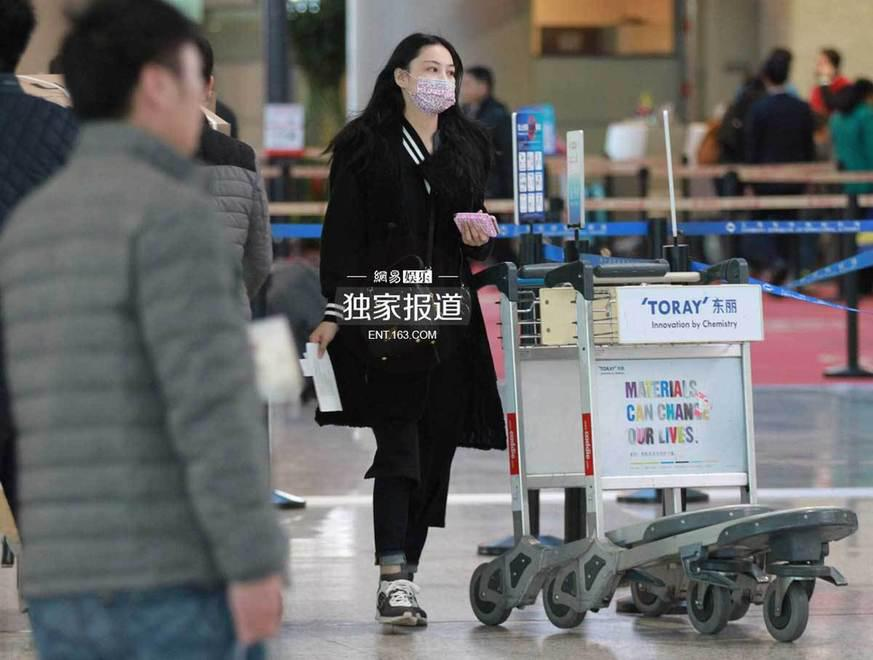OK: (411, 63, 461, 113)
